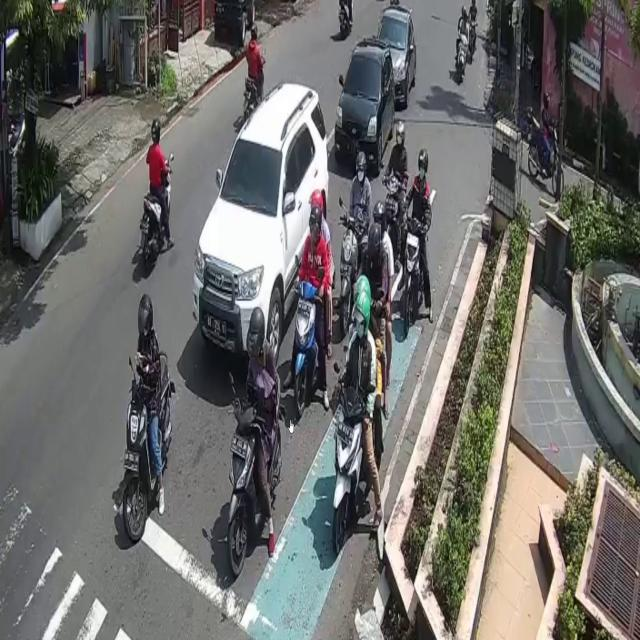bus: (228, 375, 280, 578), (128, 350, 174, 541), (334, 386, 366, 552), (141, 158, 172, 270), (296, 280, 318, 417), (528, 111, 564, 190), (404, 213, 426, 335), (338, 216, 358, 335)
motorcycle: (192, 80, 328, 374), (334, 39, 395, 177), (374, 5, 417, 107)
